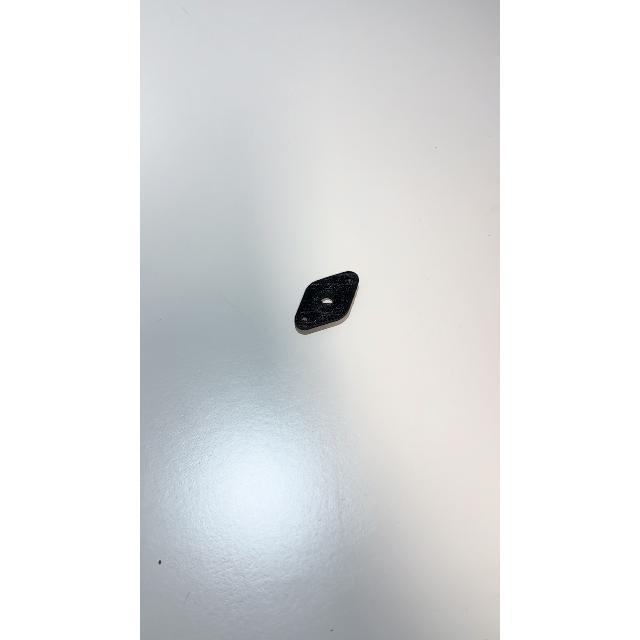Pieza2: (282, 260, 378, 350)
